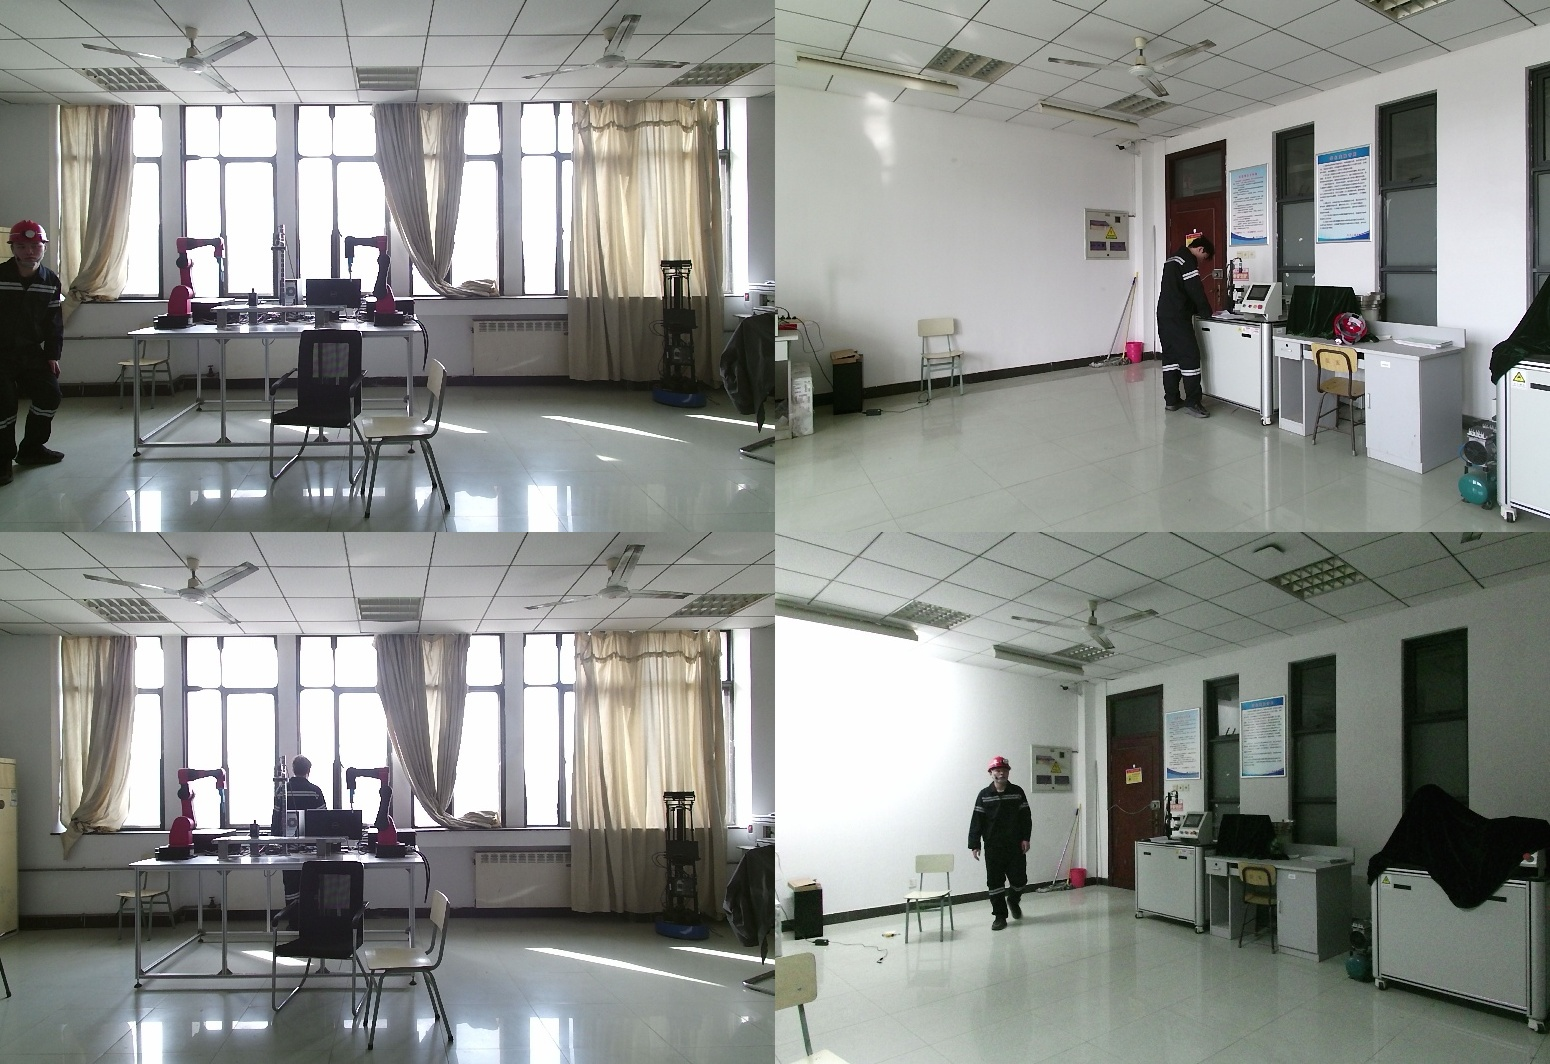person: (2, 224, 79, 481), (272, 756, 336, 954), (972, 759, 1037, 932), (1159, 239, 1218, 420)
